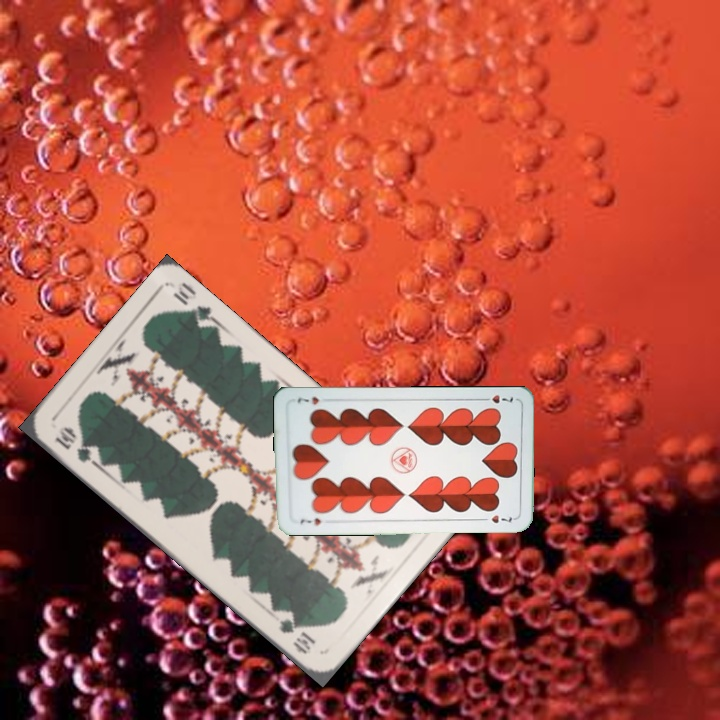G10: (51, 422, 99, 468)
H7: (477, 391, 515, 406), (296, 514, 323, 528)
